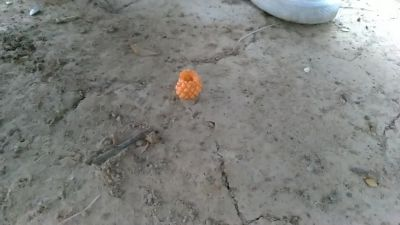eggs: (175, 66, 204, 102)
